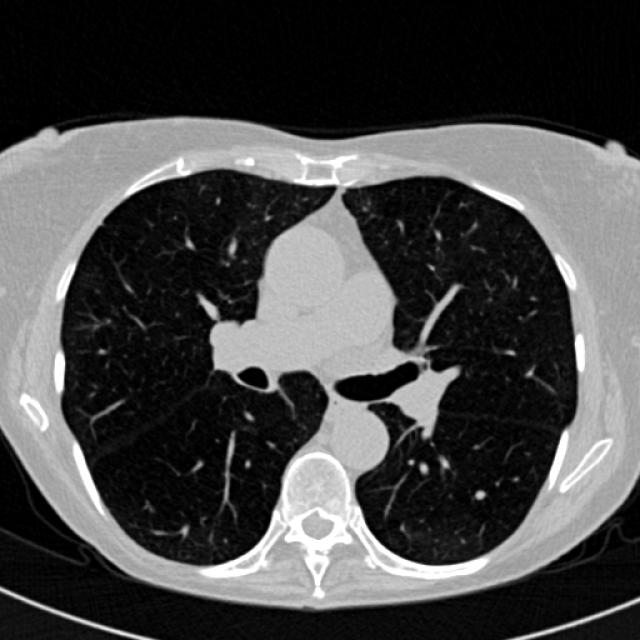nodule: (465, 480, 493, 508)
